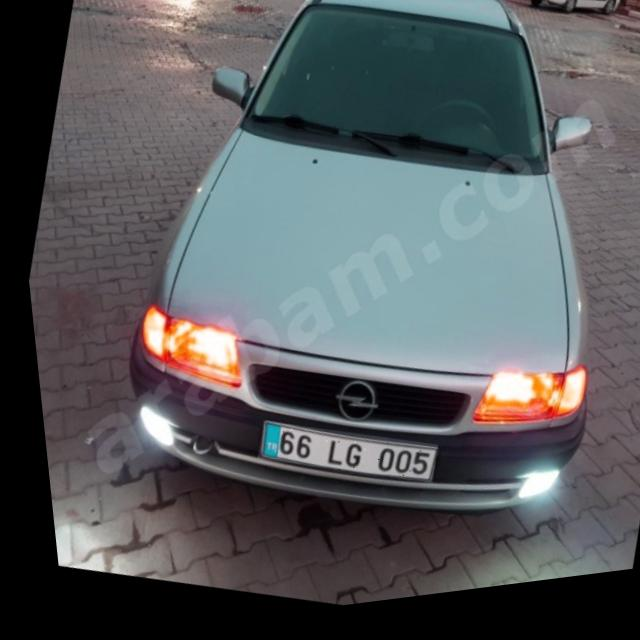license_plate: (243, 409, 430, 509)
